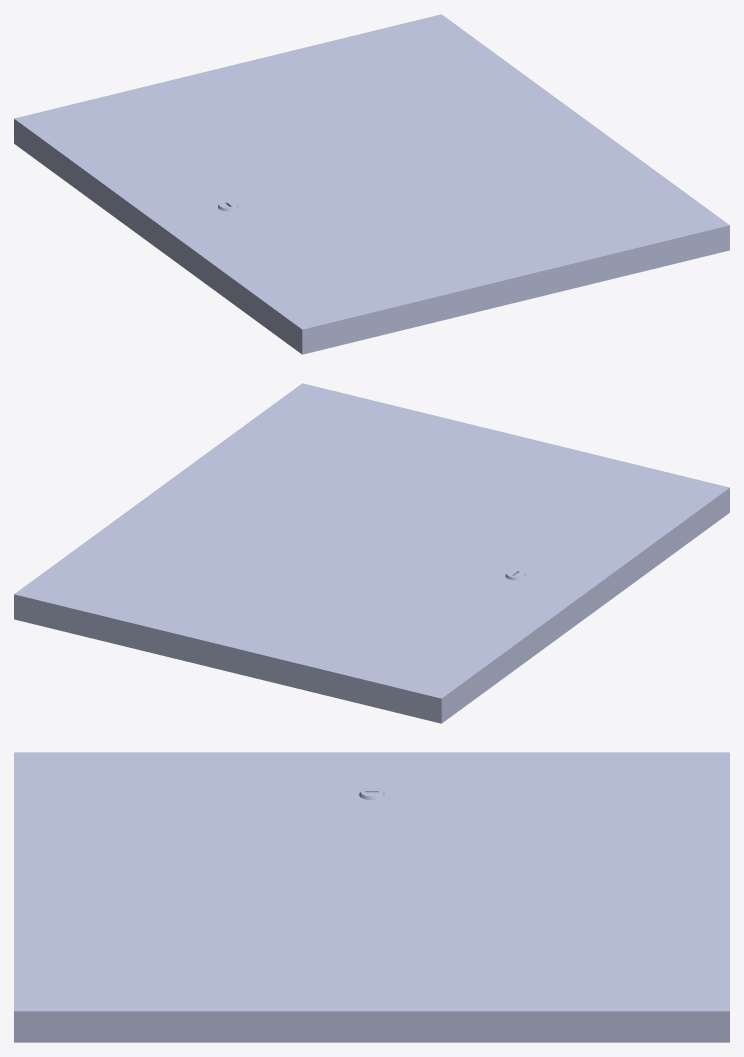
Rendered from Door Wallmount - 20in..fbx.
The picture shows the model from 3 angles, top to bottom: view 1: azimuth 30°, elevation 25°; view 2: azimuth 150°, elevation 25°; view 3: azimuth 270°, elevation 25°; orthographic projection. The views are drawn at different scales.
Parts seen in each view (by area): view 1: Body_1; view 2: Body_1; view 3: Body_1.
Part boxes in pixels (<box>): Body_1: <box>14,14,729,354</box>; Body_1: <box>14,383,729,723</box>; Body_1: <box>14,752,729,1042</box>.
Size of the model in its own units: 0.4532 by 0.5294 by 0.0279.
